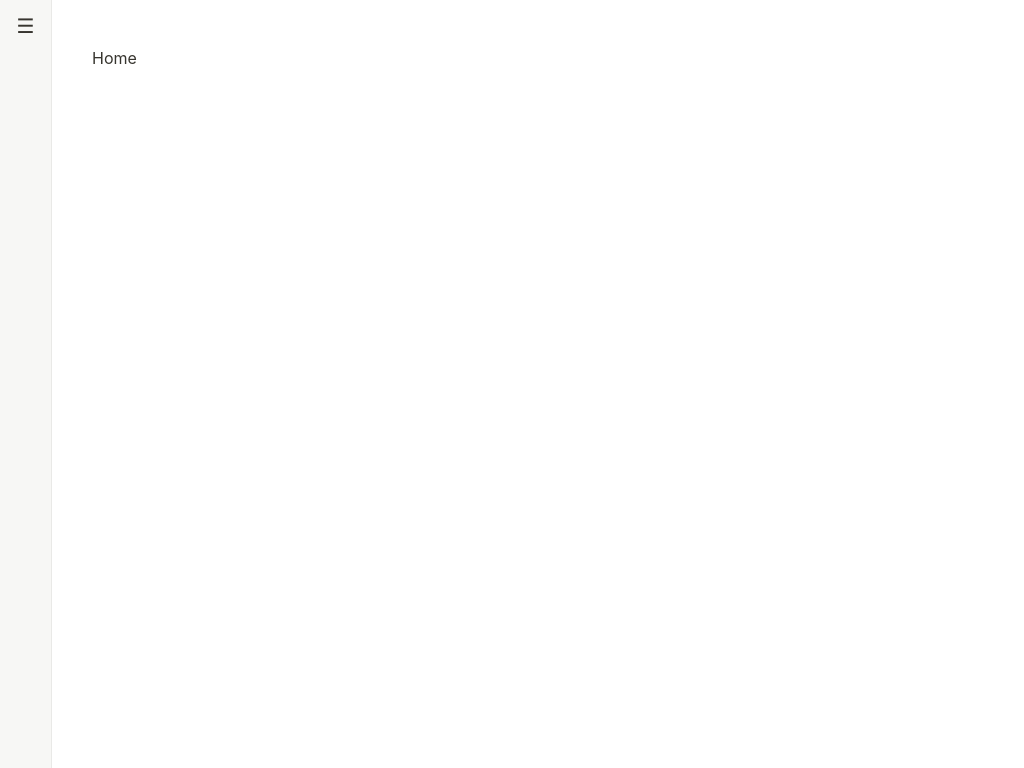
Test: AppLayout sidebar drawer › opens on phones from the menu button and closes on Esc and on the overlay
Later steps or results of the test are not shown.
Click the button named "Open sidebar" at (26, 26), box [4,4,48,48]
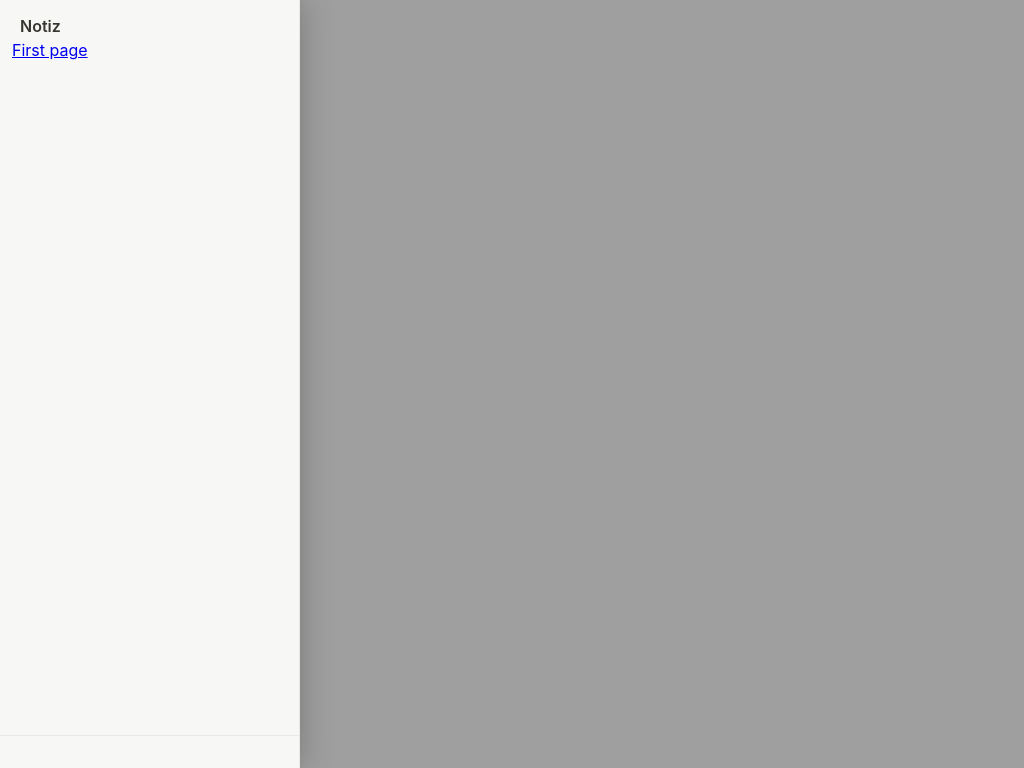
Expected: the button named "Close sidebar" is expanded, [4,4,48,48]
